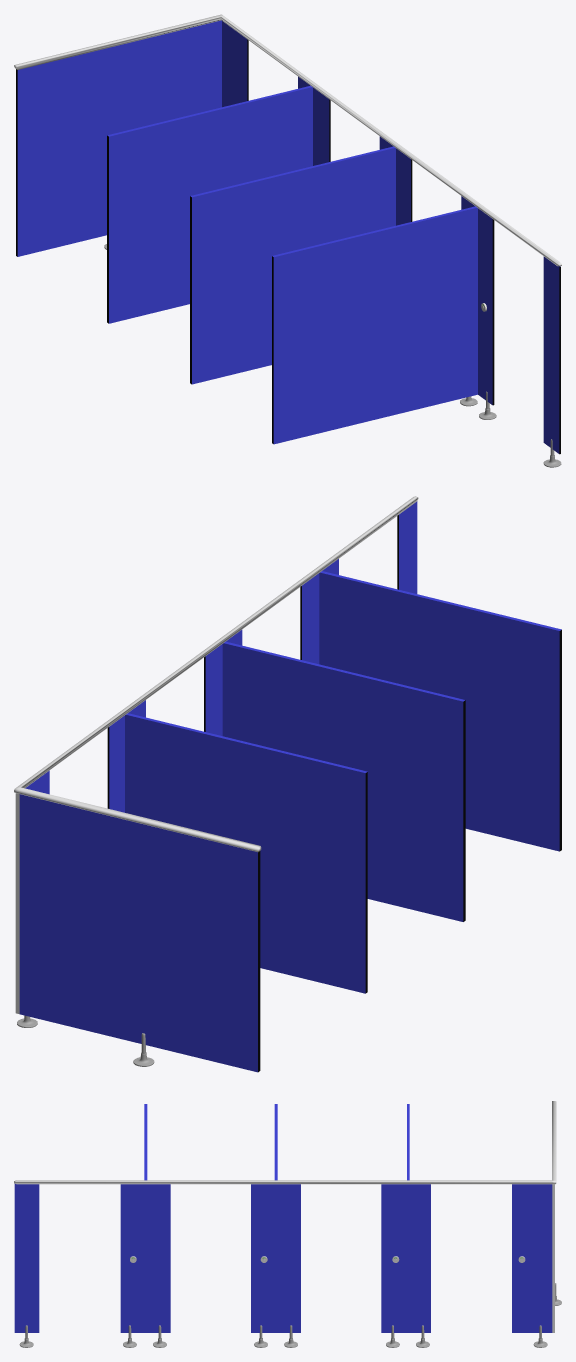
Rendered from Separador_baños.fbx.
The picture shows the model from 3 angles, top to bottom: view 1: azimuth 30°, elevation 25°; view 2: azimuth 150°, elevation 25°; view 3: azimuth 270°, elevation 25°; orthographic projection. The views are drawn at different scales.
Parts seen in each view (by area): view 1: Cube, Cube.003; view 2: Cube, Cube.003; view 3: Cube, Cube.003.
Boxes of the visible parts, x1,y1,x2,y2 form: Cube: [16, 20, 560, 454]; Cube.003: [14, 14, 561, 266]; Cube: [15, 501, 561, 1072]; Cube.003: [14, 496, 418, 851]; Cube: [14, 1104, 554, 1332]; Cube.003: [14, 1101, 556, 1184].
Bounding box in the file's own units: 1213 × 1119 × 3382.
